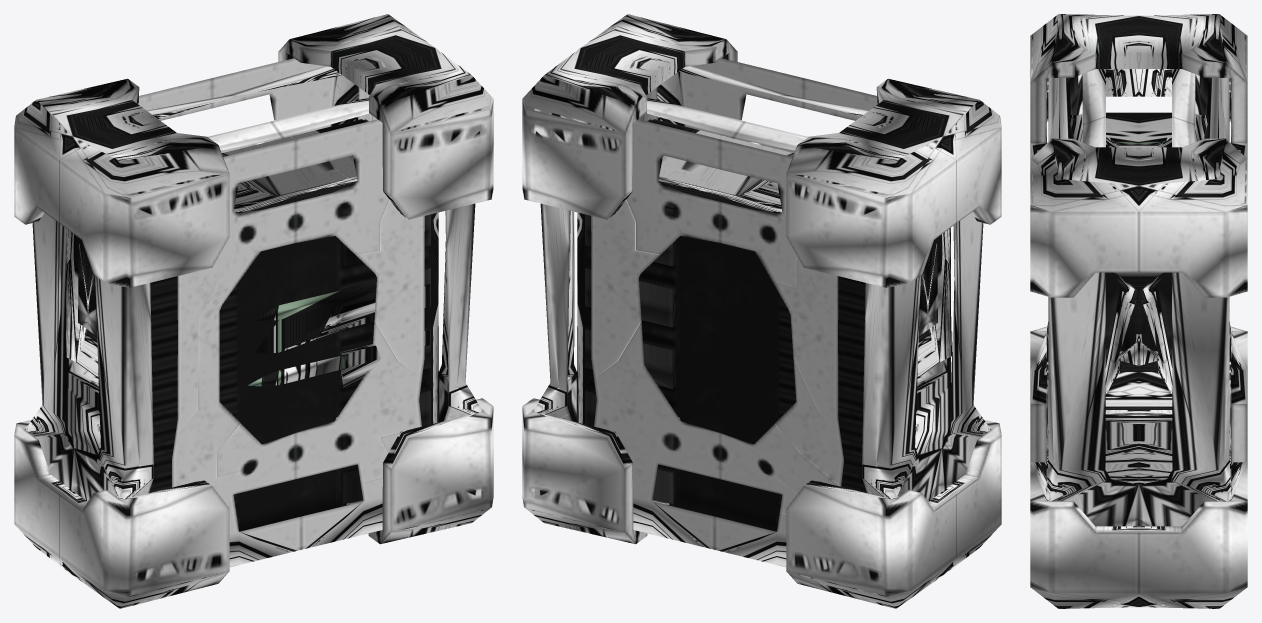
The model's file is ammo_crate.glb.
3 renders of one model, left to right at view 1: azimuth 30°, elevation 25°; view 2: azimuth 150°, elevation 25°; view 3: azimuth 270°, elevation 25°, orthographic. The views are drawn at different scales.
Parts seen in each view (by area): view 1: ammo_crate; view 2: ammo_crate; view 3: ammo_crate.
Boxes of the visible parts, bbox=[...] form: ammo_crate: bbox=[14, 14, 493, 608]; ammo_crate: bbox=[522, 14, 1001, 608]; ammo_crate: bbox=[1030, 14, 1247, 608].
Bounding box in the file's own units: 0.4986 × 0.5485 × 0.2512.
Materials: 1 (1 with a texture image).
